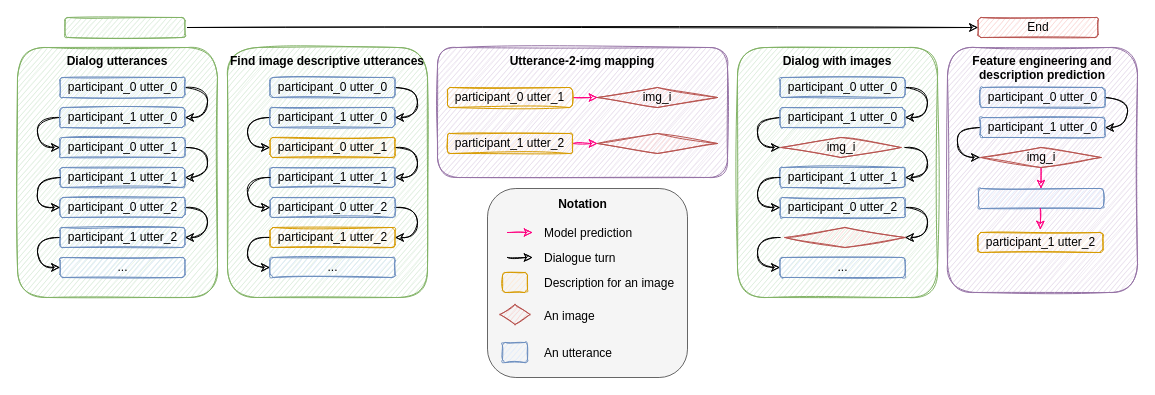
Some shapes in this 1155 by 395 pixel diagram are drawn without their labels. Each missing label, with the centre of its shape:
"Engineered features" goes at (1041,198).
"img>_k" goes at (844,237).
"img_k" goes at (657,143).
"Start" goes at (124,27).
